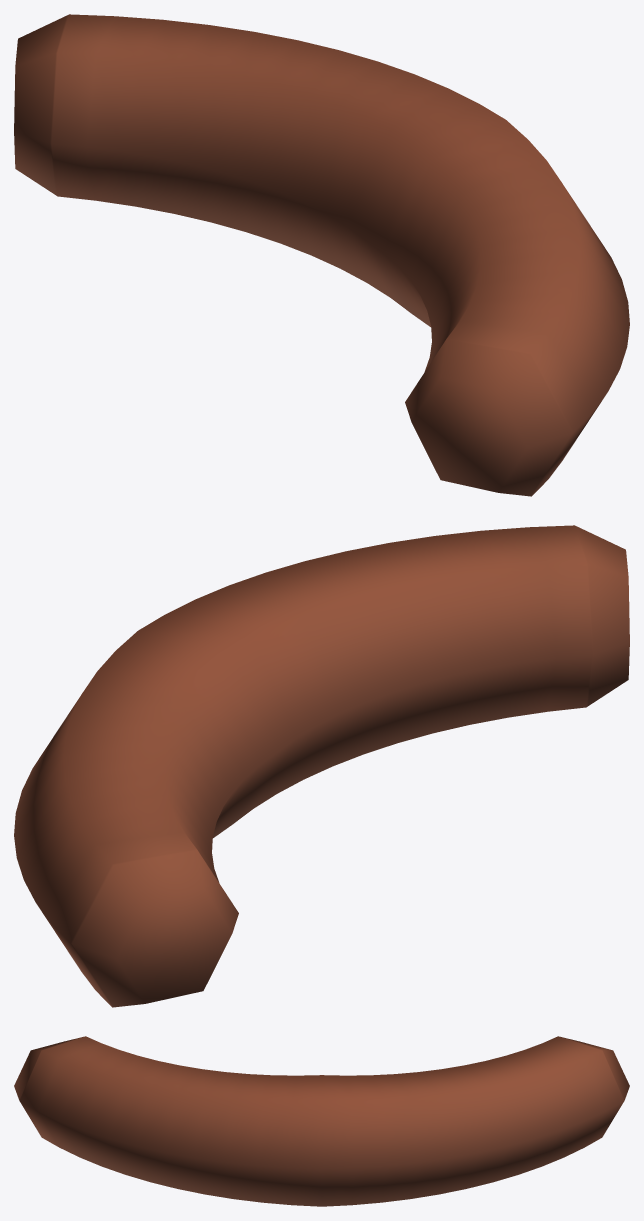
Rendered from meat-sausage.glb.
3 renders of one model, top to bottom at view 1: azimuth 30°, elevation 25°; view 2: azimuth 150°, elevation 25°; view 3: azimuth 270°, elevation 25°, orthographic. The views are drawn at different scales.
Parts seen in each view (by area): view 1: meat-sausage; view 2: meat-sausage; view 3: meat-sausage.
Boxes of the visible parts, box(x1,y1,x2,y2) form: meat-sausage: box(14, 14, 629, 496); meat-sausage: box(14, 525, 629, 1007); meat-sausage: box(14, 1036, 629, 1206).
Bounding box in the file's own units: 0.1515 × 0.0727 × 0.3916.
